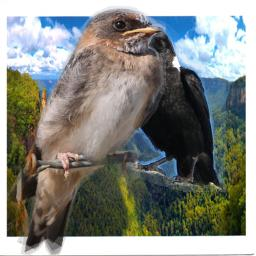Crow: (120, 24, 226, 192)
Swallow: (7, 5, 166, 255)
